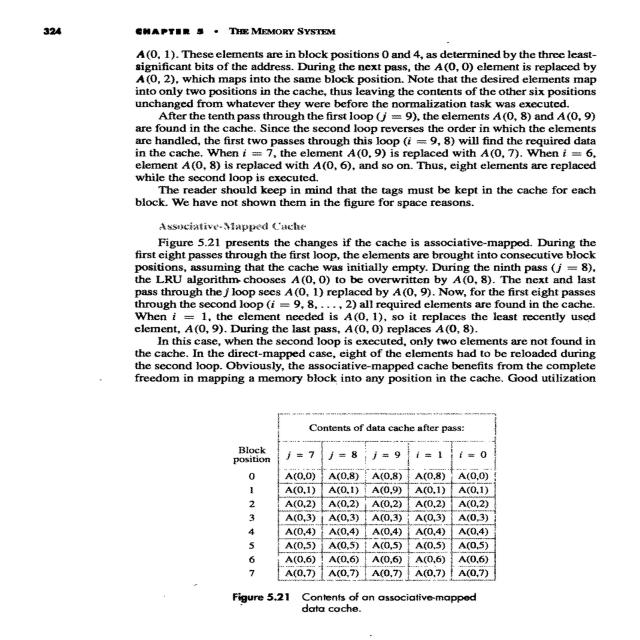diagram: (211, 393, 528, 623), (162, 380, 348, 516)
